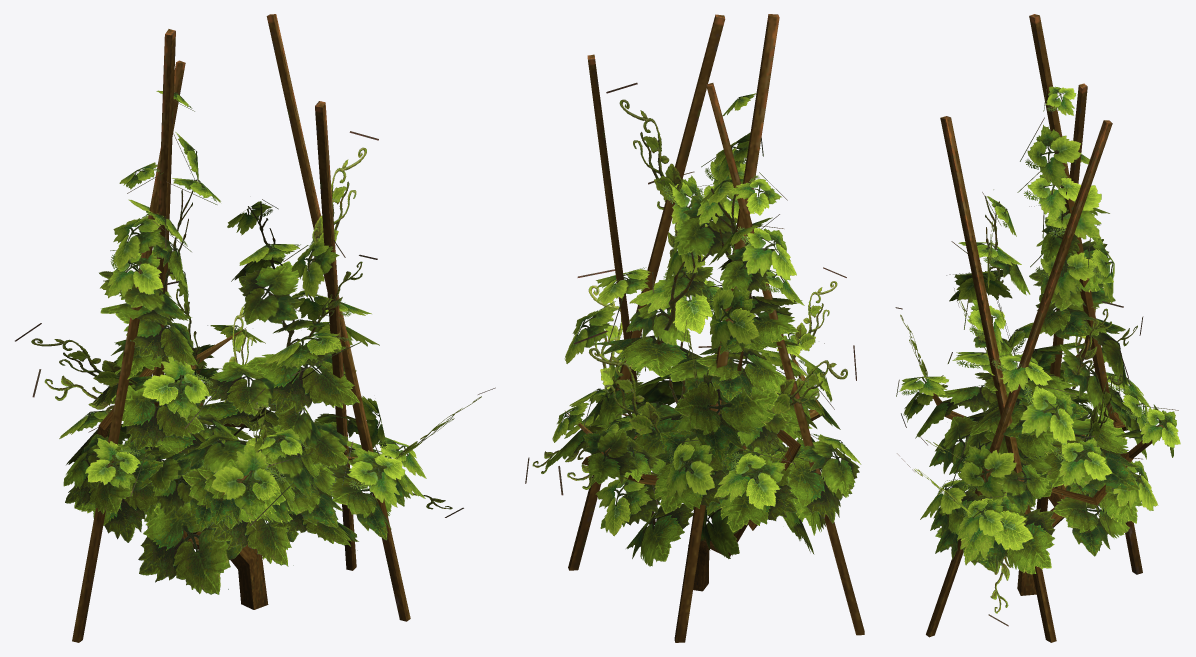
The model's file is jd_putao_2.FBX.
The picture shows the model from 3 angles, left to right: view 1: azimuth 30°, elevation 25°; view 2: azimuth 150°, elevation 25°; view 3: azimuth 270°, elevation 25°; orthographic projection. The views are drawn at different scales.
Visible parts, largest first — view 1: jd_putao_2; view 2: jd_putao_2; view 3: jd_putao_2.
Part boxes in pixels (left/top/right/bottom): jd_putao_2: left=15, top=14, right=495, bottom=642; jd_putao_2: left=525, top=14, right=864, bottom=642; jd_putao_2: left=895, top=14, right=1180, bottom=642.
Size of the model in its own units: 87.85 by 128 by 61.2.
